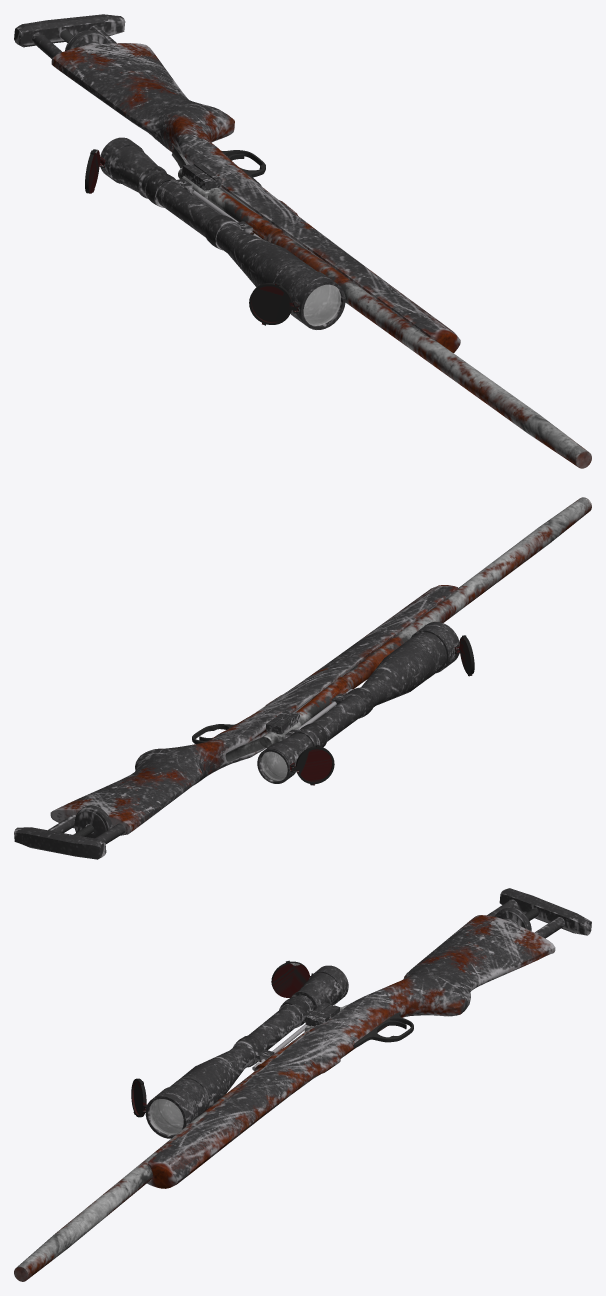
File: mujvsbmn04z-m243.fbx
3 renders of one model, top to bottom at view 1: azimuth 30°, elevation 25°; view 2: azimuth 150°, elevation 25°; view 3: azimuth 330°, elevation 25°, orthographic. The views are drawn at different scales.
Visible parts, largest first — view 1: Cylinder; view 2: Cylinder; view 3: Cylinder.
Boxes of the visible parts, x1,y1,x2,y2 form: Cylinder: (14,14,591,468); Cylinder: (14,497,591,859); Cylinder: (14,888,591,1281).
Bounding box in the file's own units: 370 × 96.32 × 1807.
12 materials, 9 textured.
